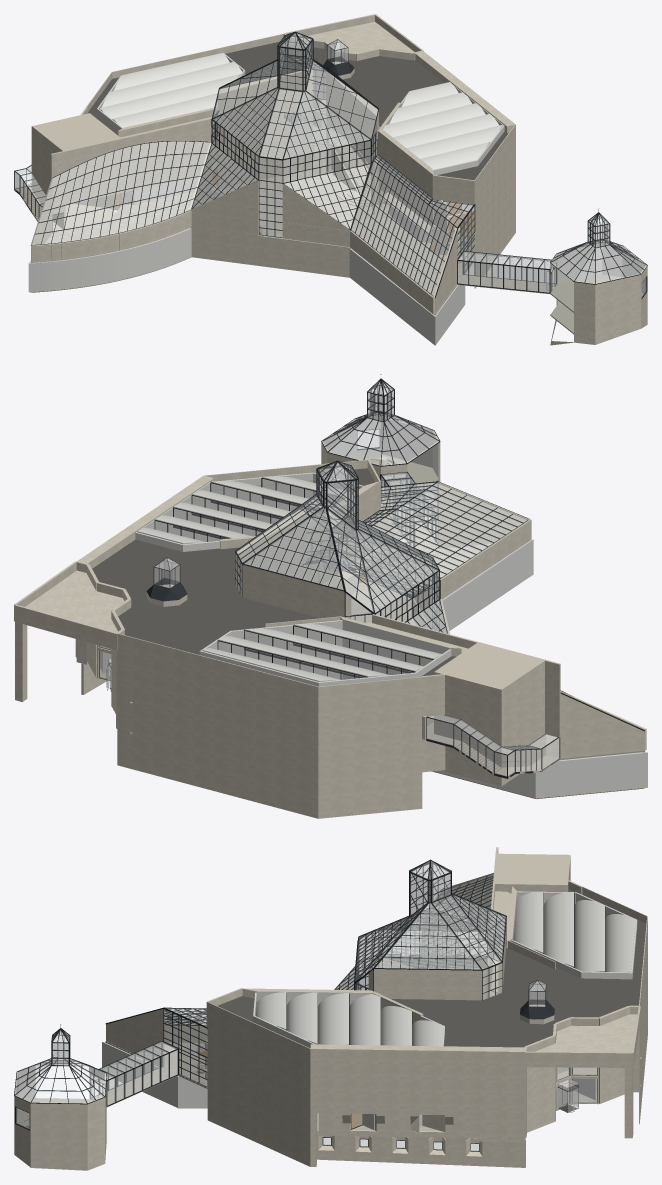
Rendered from context2.glb.
3 views of the same model, one above another, from view 1: azimuth 30°, elevation 25°; view 2: azimuth 150°, elevation 25°; view 3: azimuth 270°, elevation 25° (orthographic). The views are drawn at different scales.
Visible parts, largest first — view 1: building/walls, building/glass, building/ceilings, building/frames, building/floors; view 2: building/walls, building/glass, building/ceilings, building/frames, building/floors; view 3: building/walls, building/ceilings, building/glass, building/frames, building/floors.
Part boxes in pixels (x1,y1,x2,y2): building/walls: (28, 33, 647, 345); building/glass: (14, 33, 646, 296); building/ceilings: (31, 14, 515, 251); building/frames: (14, 31, 647, 298); building/floors: (14, 115, 646, 344); building/walls: (15, 417, 647, 818); building/glass: (100, 381, 559, 776); building/ceilings: (14, 463, 641, 760); building/frames: (99, 374, 644, 778); building/floors: (100, 416, 647, 798); building/walls: (14, 847, 647, 1170); building/ceilings: (26, 853, 647, 1125); building/glass: (15, 861, 596, 1150); building/frames: (14, 859, 605, 1151); building/floors: (15, 909, 641, 1138).
Size of the model in its own units: 80.81 by 39.73 by 93.62.
52 materials, 10 textured.
